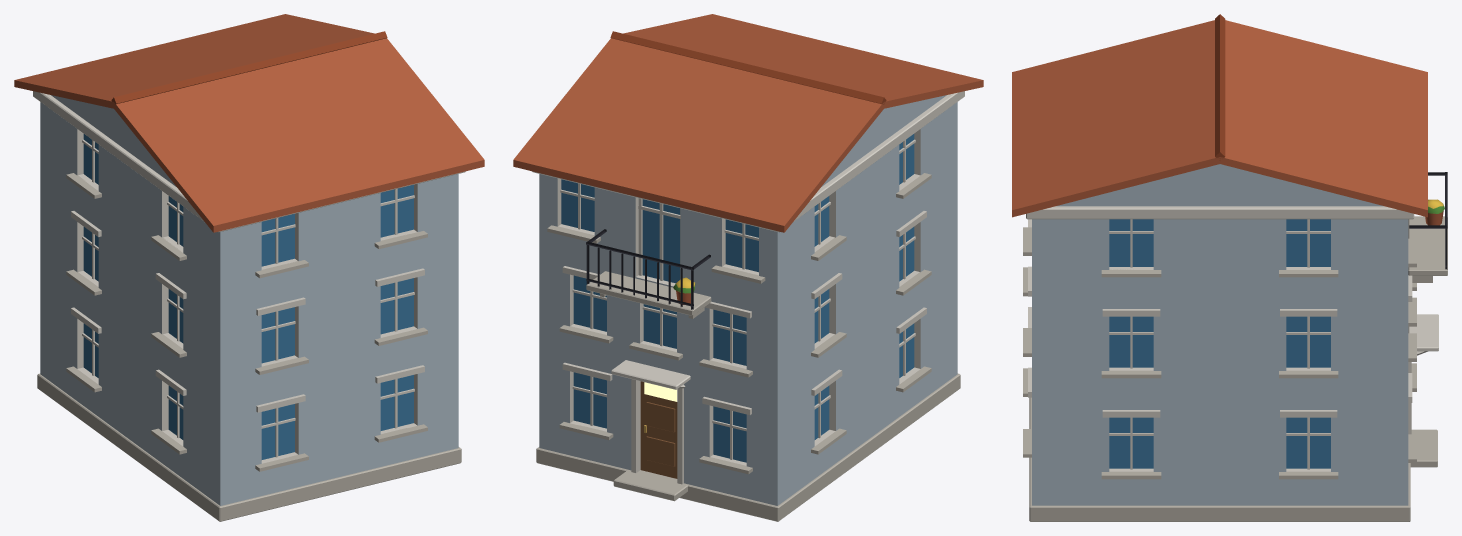
File: house_b.glb
3 renders of one model, left to right at view 1: azimuth 30°, elevation 25°; view 2: azimuth 150°, elevation 25°; view 3: azimuth 270°, elevation 25°, orthographic. The views are drawn at different scales.
Parts seen in each view (by area): view 1: house; view 2: house; view 3: house.
Part boxes in pixels (box(x1,y1,x2,y2)): house: box(14, 14, 484, 521); house: box(513, 14, 983, 521); house: box(1012, 14, 1447, 521).
Size of the model in its own units: 6.6 by 8.42 by 8.8.
